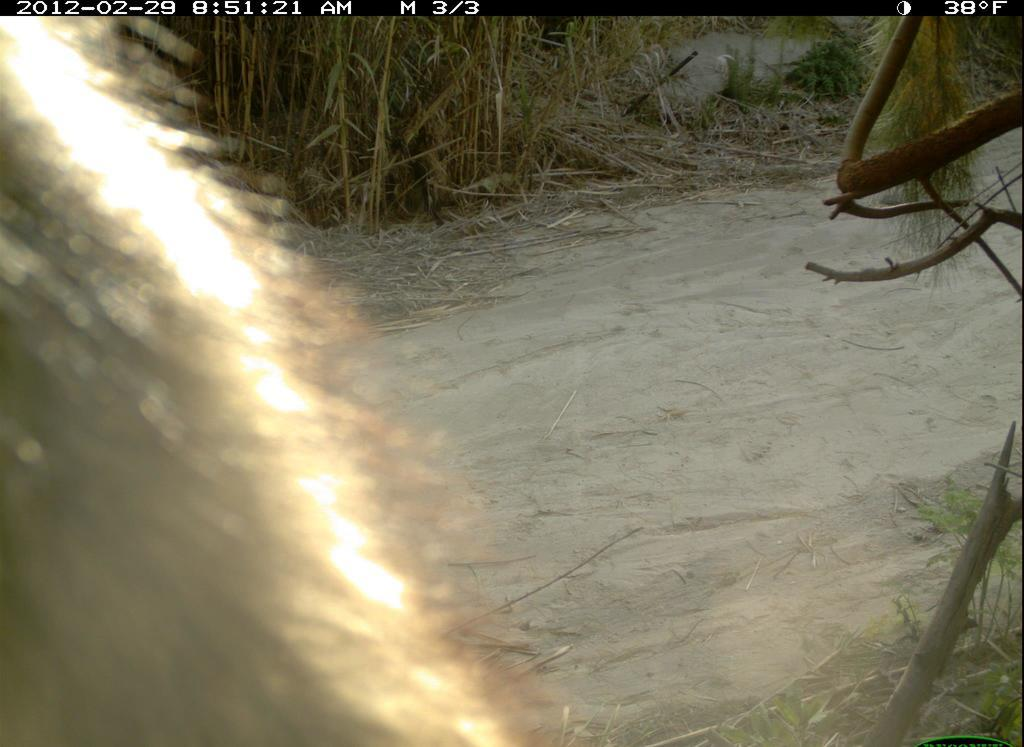coyote: (4, 15, 574, 747)
